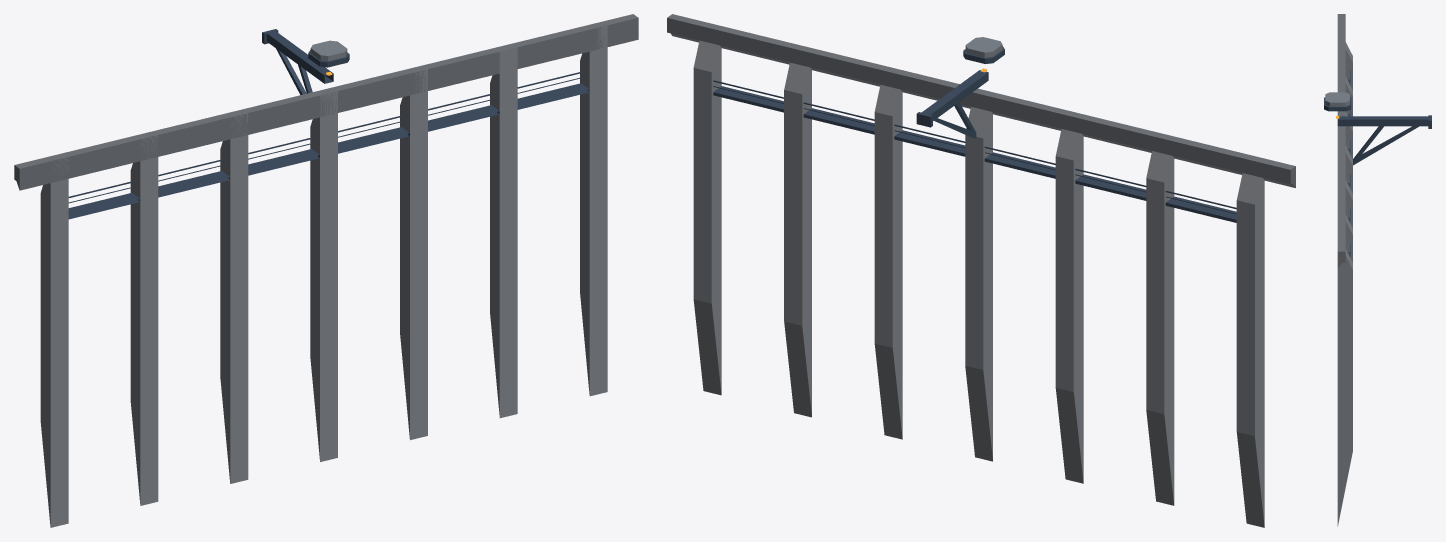
File: SE_Bulkhead.glb
3 renders of one model, left to right at view 1: azimuth 30°, elevation 25°; view 2: azimuth 150°, elevation 25°; view 3: azimuth 270°, elevation 25°, orthographic. The views are drawn at different scales.
Visible parts, largest first — view 1: SE_Bulkhead__ribs, SE_Bulkhead__corbel, SE_Bulkhead__catwalk, SE_Bulkhead__launch_rail; view 2: SE_Bulkhead__ribs, SE_Bulkhead__corbel, SE_Bulkhead__catwalk, SE_Bulkhead__launch_rail; view 3: SE_Bulkhead__ribs, SE_Bulkhead__corbel, SE_Bulkhead__launch_rail, SE_Bulkhead__pylon_shaft, SE_Bulkhead__pylon_band.
Part boxes in pixels (box(x1,y1,x2,y2)): SE_Bulkhead__ribs: box(40, 25, 607, 527); SE_Bulkhead__corbel: box(14, 14, 638, 190); SE_Bulkhead__catwalk: box(68, 71, 589, 219); SE_Bulkhead__launch_rail: box(262, 29, 333, 94); SE_Bulkhead__ribs: box(693, 40, 1264, 527); SE_Bulkhead__corbel: box(667, 14, 1295, 187); SE_Bulkhead__catwalk: box(713, 80, 1236, 222); SE_Bulkhead__launch_rail: box(916, 70, 988, 138); SE_Bulkhead__ribs: box(1337, 42, 1352, 526); SE_Bulkhead__corbel: box(1337, 14, 1345, 268); SE_Bulkhead__launch_rail: box(1337, 115, 1431, 165); SE_Bulkhead__pylon_shaft: box(1325, 92, 1349, 106); SE_Bulkhead__pylon_band: box(1324, 97, 1351, 111).
Bounding box in the file's own units: 62 × 39.4 × 11.9.
